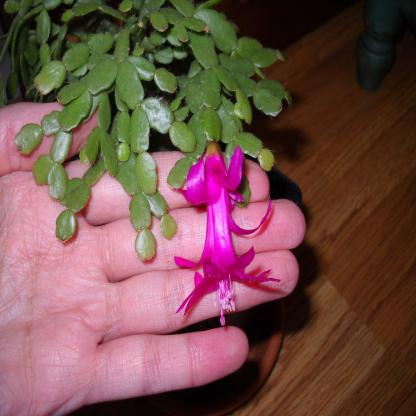Aglonema: (14, 72, 416, 270)
